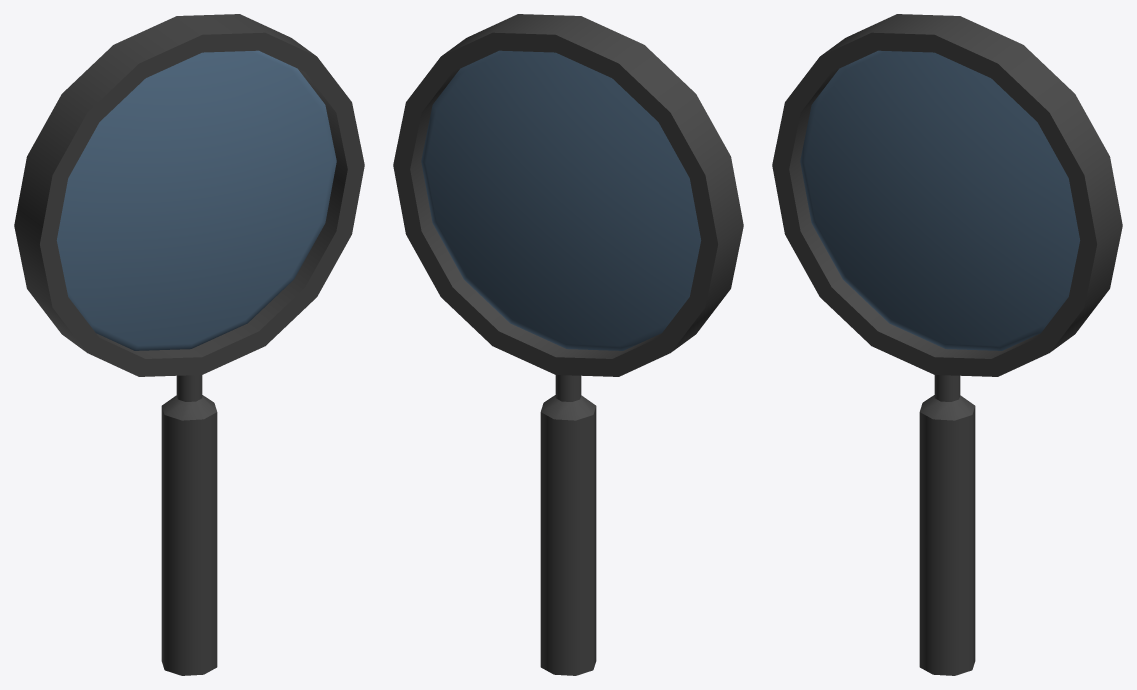
File: SM_MagnifyingGlass.FBX
3 views of the same model, side by side, from view 1: azimuth 30°, elevation 25°; view 2: azimuth 150°, elevation 25°; view 3: azimuth 330°, elevation 25° (orthographic).
Visible parts, largest first — view 1: Line001; view 2: Line001; view 3: Line001.
Part boxes in pixels (bbox=[...]): Line001: bbox=[14, 14, 364, 675]; Line001: bbox=[393, 14, 743, 675]; Line001: bbox=[772, 14, 1122, 675].
Size of the model in its own units: 10.55 by 1.62 by 20.15.
